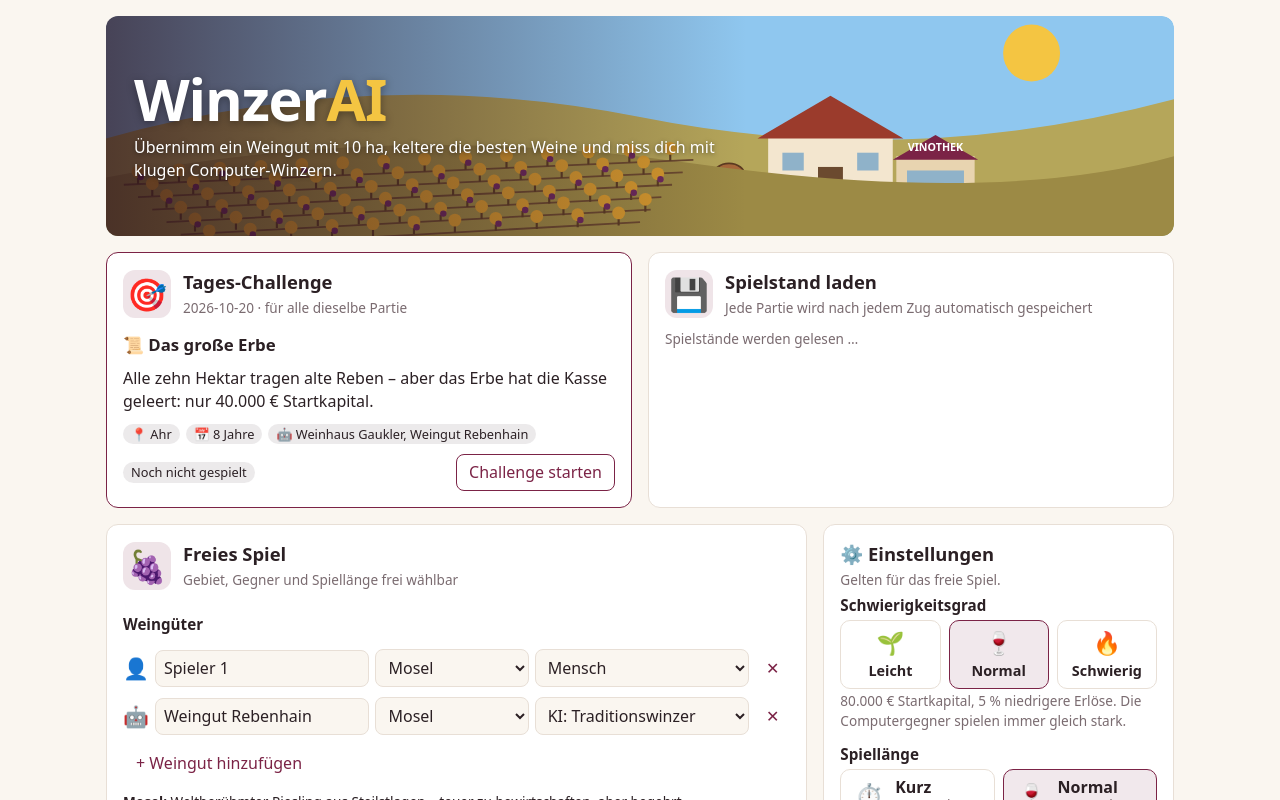
Test: Bedienung › Hot-Seat: Jeder spult für sich – die anderen spielen normal weiter
The width and height of the screenshot is (1280, 800).
Select "Mensch" in the 2nd dropdown named "Gesteuert von" at (642, 716), box [535,697,749,735]
(page scrolled)
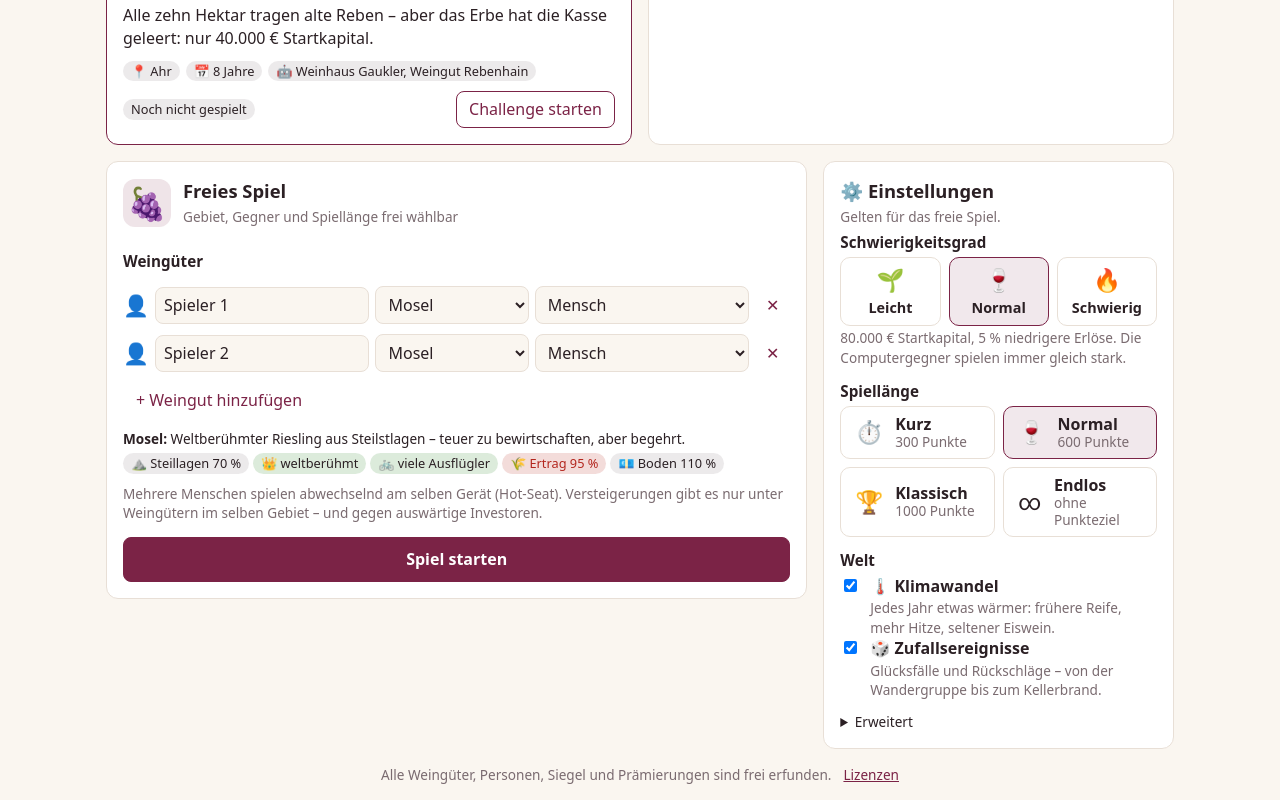
Click the button "Spiel starten" at (457, 560), box [123,537,790,582]
(page scrolled)
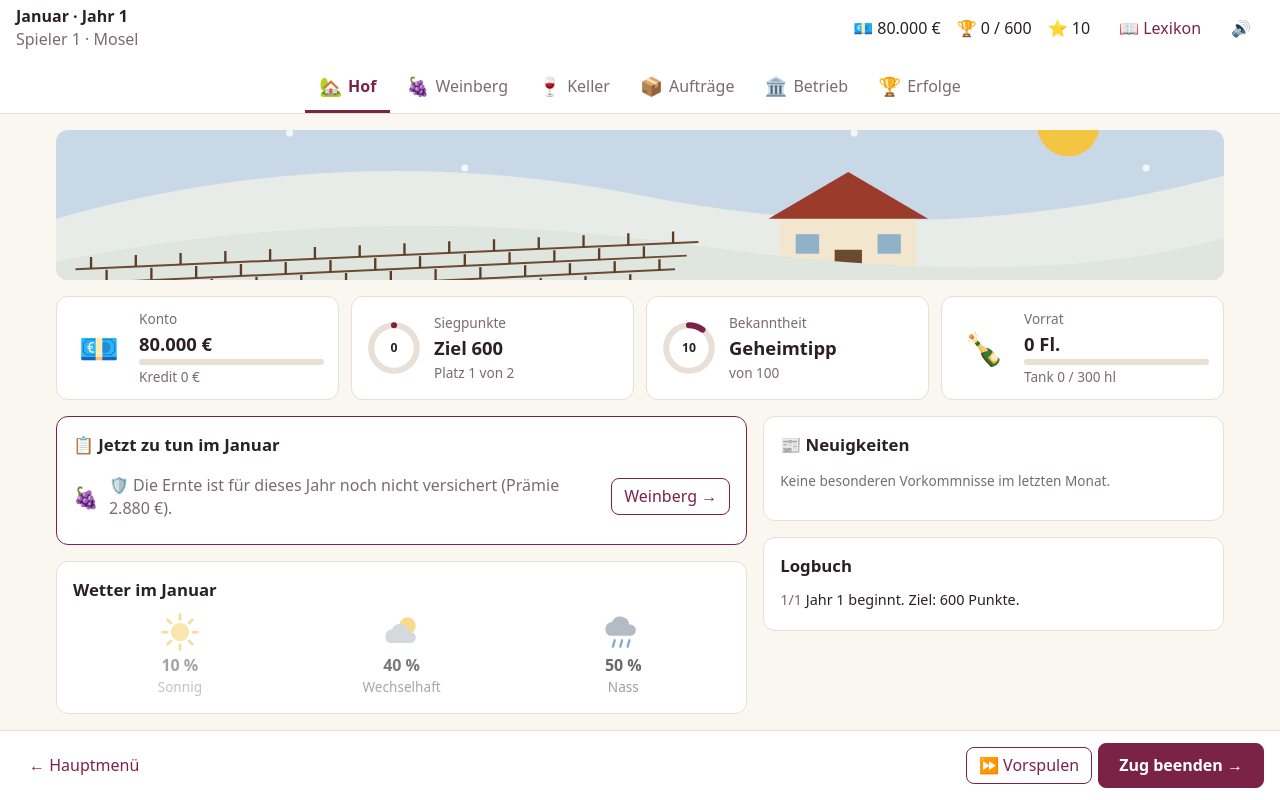
Click the button "⏩ Vorspulen" at (1029, 765), box [966,747,1092,784]
(page scrolled)
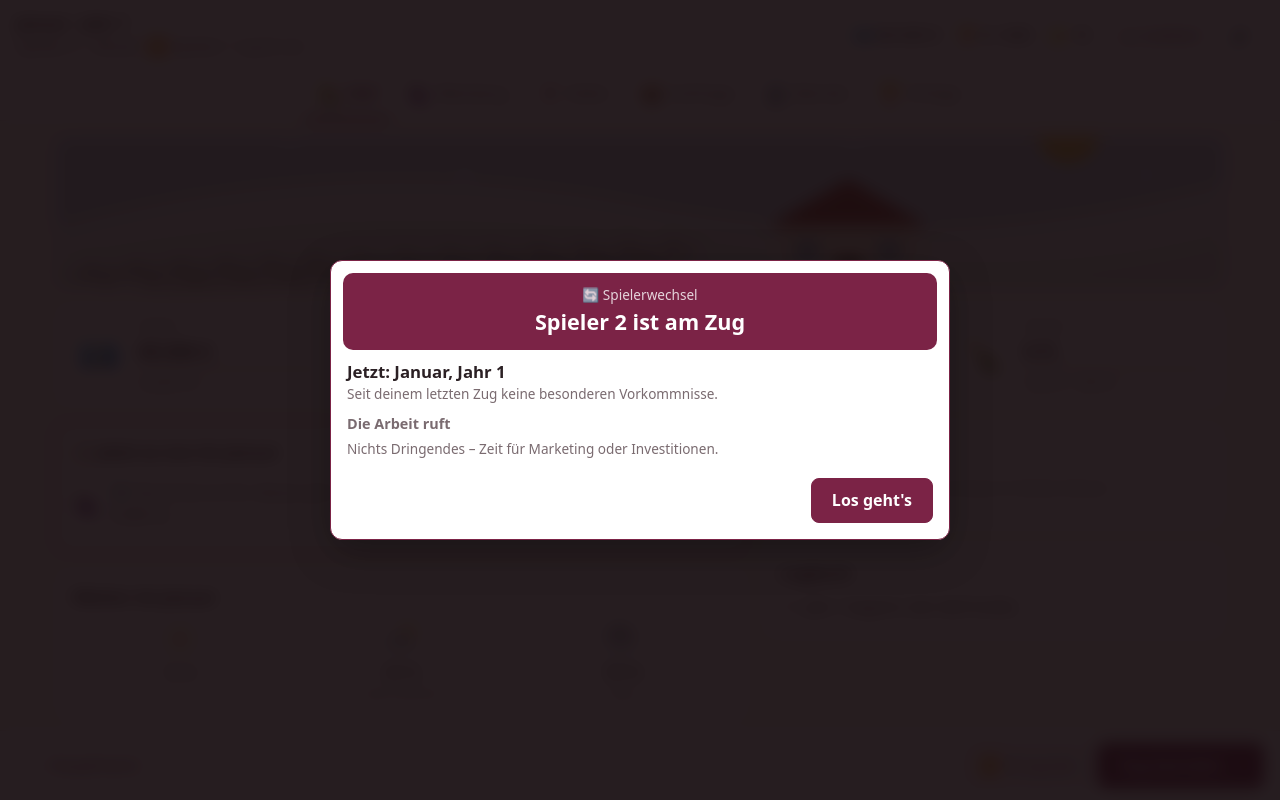
Check: the dialog shows "Spieler 2 ist am Zug", box [535,307,745,336]
Click the button "Los geht's" at (872, 501), box [811,478,933,523]
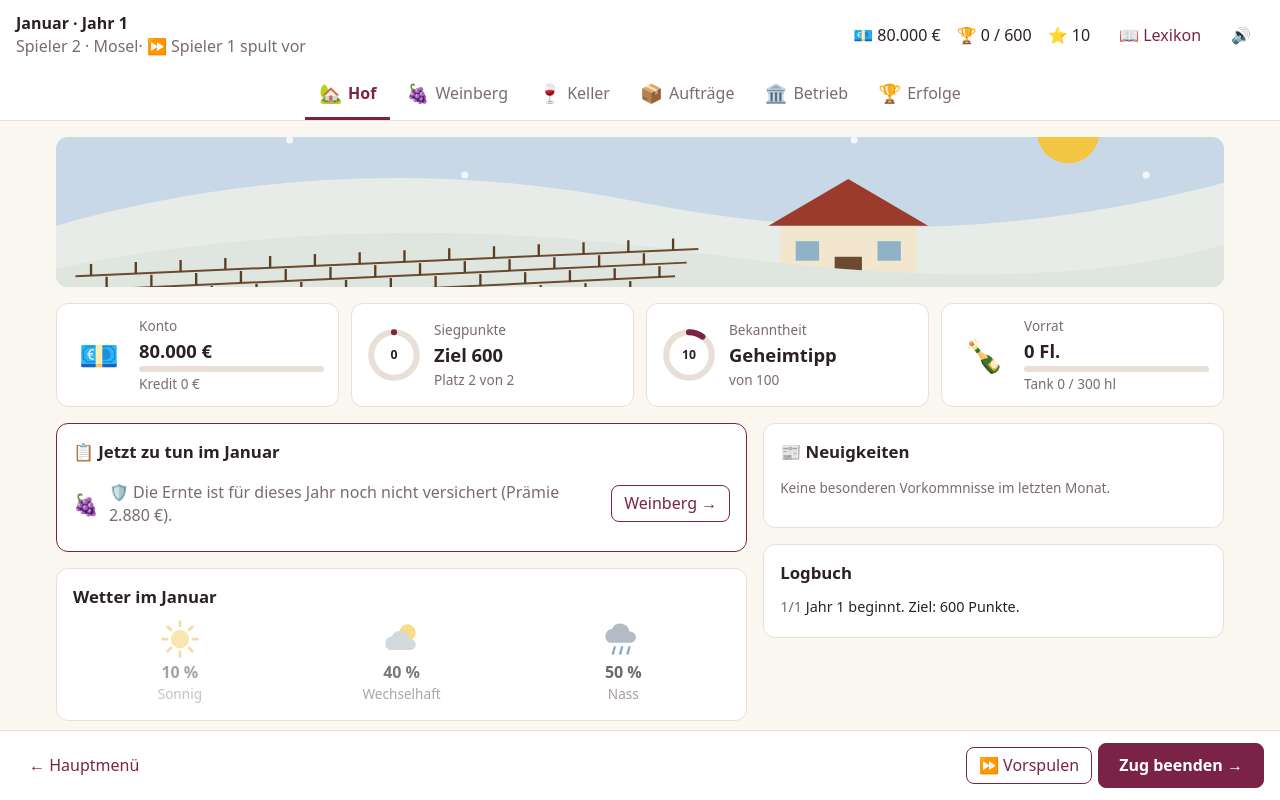
Check: the text "Spieler 1 spult vor" is shown, box [138,35,306,57]
Click the button "Zug beenden →" at (1181, 765), box [1098,743,1264,788]
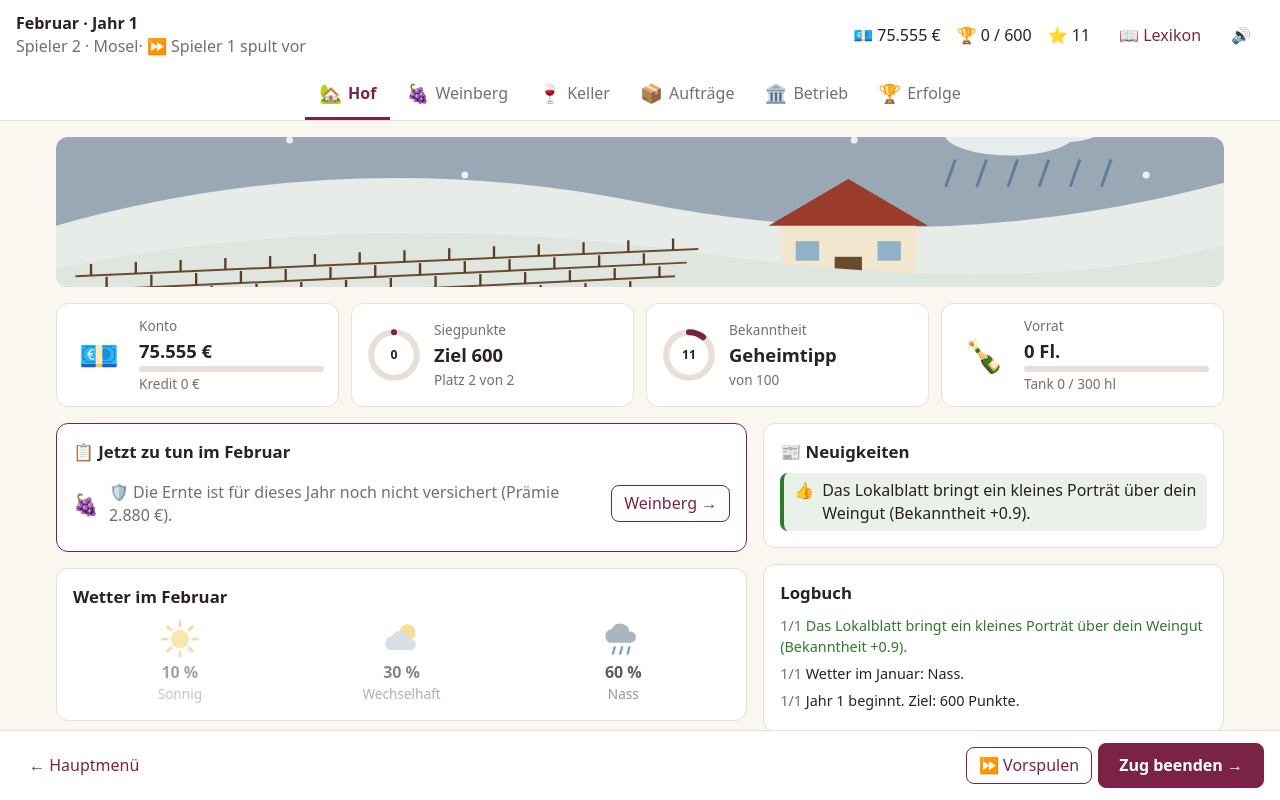
Check: the text "Februar · Jahr 1" is shown, box [16,12,138,34]
